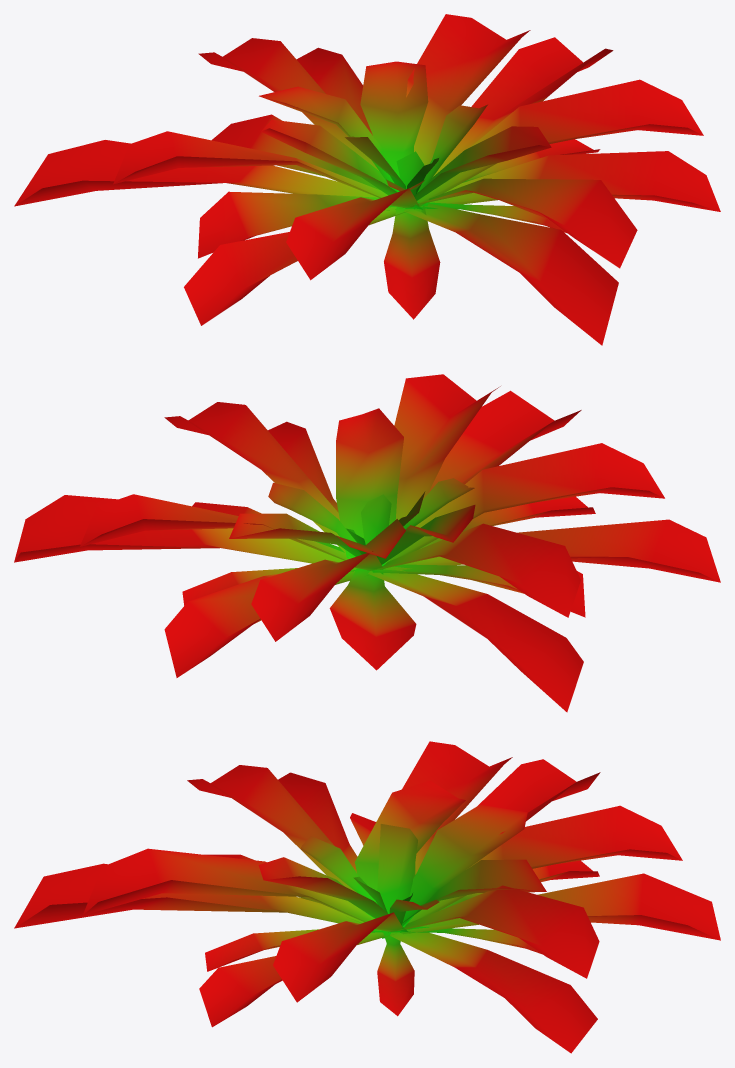
File: Var9_LOD2.fbx
The picture shows the model from 3 angles, top to bottom: view 1: azimuth 30°, elevation 25°; view 2: azimuth 150°, elevation 25°; view 3: azimuth 270°, elevation 25°; orthographic projection.
Parts seen in each view (by area): view 1: _yjyl_Var9_LOD2; view 2: _yjyl_Var9_LOD2; view 3: _yjyl_Var9_LOD2.
Part boxes in pixels (bbox=[...]): _yjyl_Var9_LOD2: bbox=[14, 14, 720, 345]; _yjyl_Var9_LOD2: bbox=[14, 374, 720, 712]; _yjyl_Var9_LOD2: bbox=[14, 741, 720, 1053].
Size of the model in its own units: 34.68 by 6.03 by 37.75.
